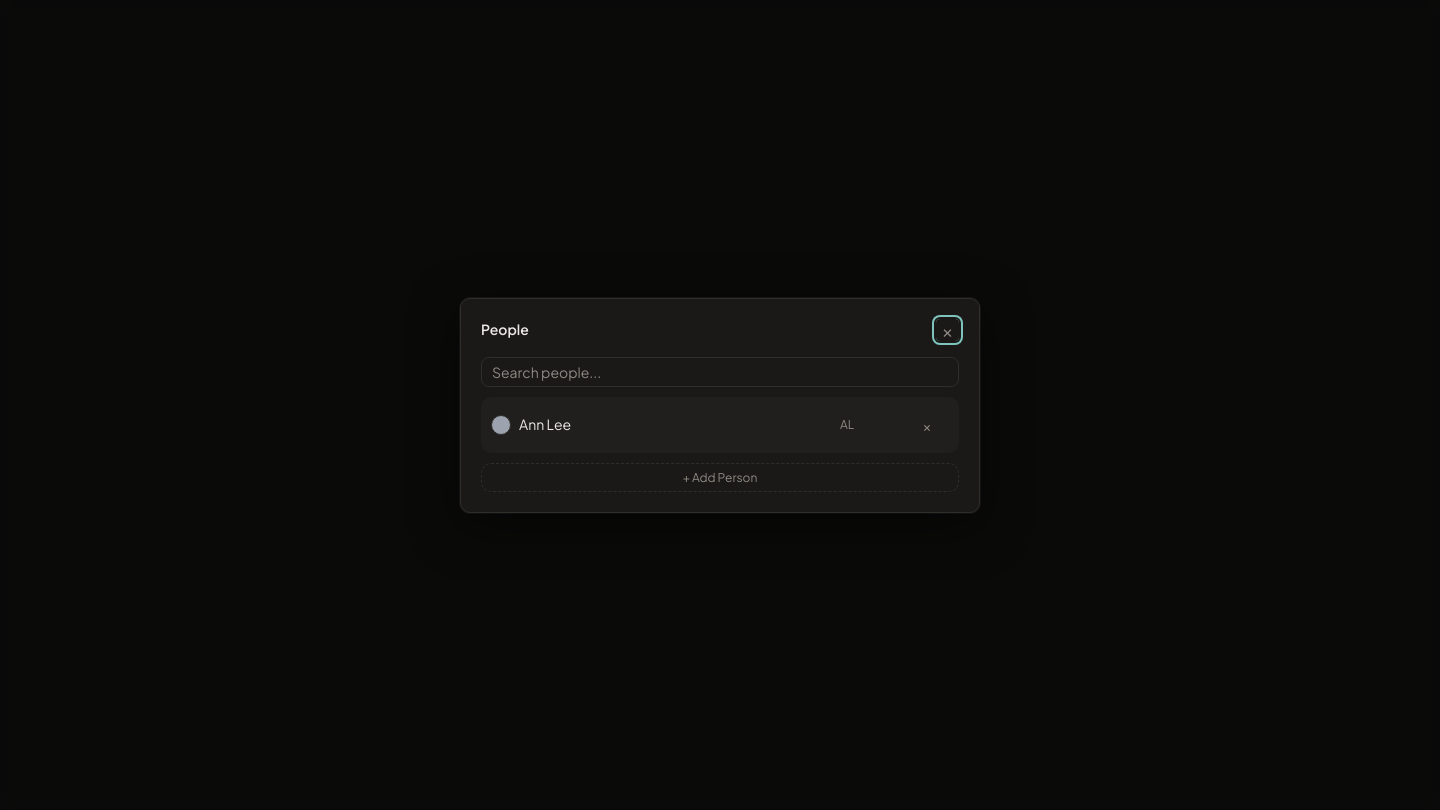
Test: PeopleEditor › Enter with a bad email shows the error instead of saving
Click the text "Ann Lee" at (545, 424), box [519,415,571,433]
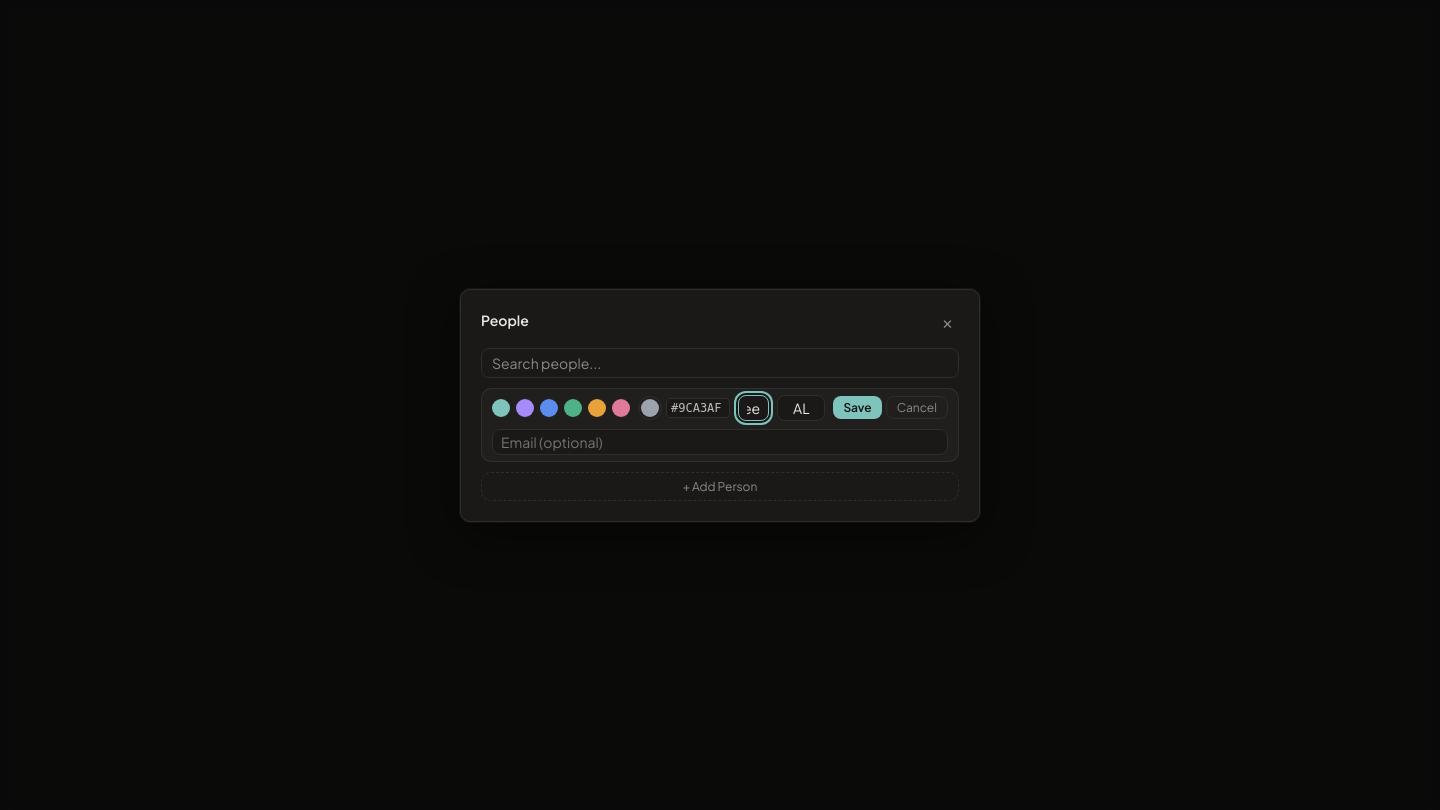
Type "ann at example" into the field labelled "Email" at (720, 442), box [492,428,948,454]
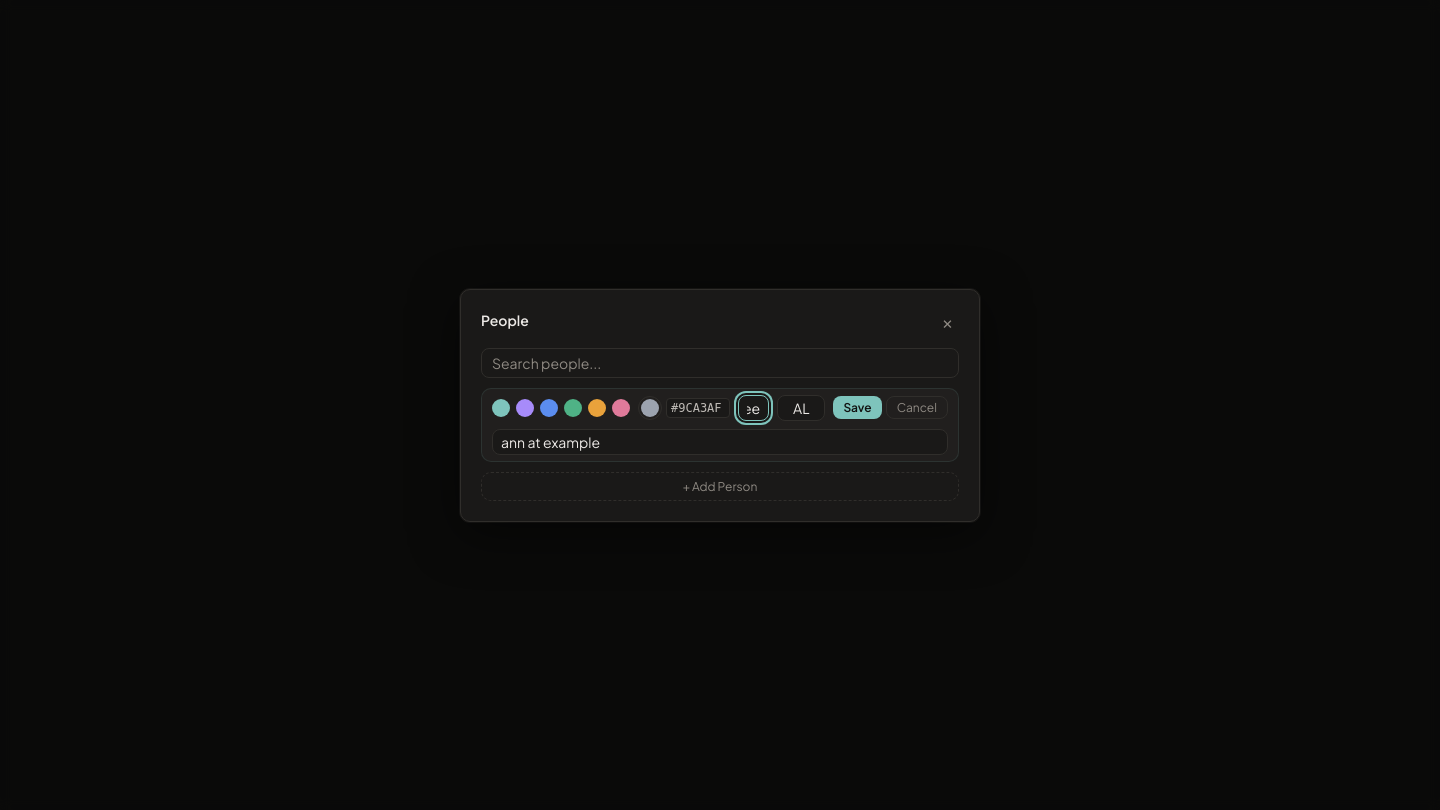
Press Enter in the field named "Email", box [492,428,948,454]
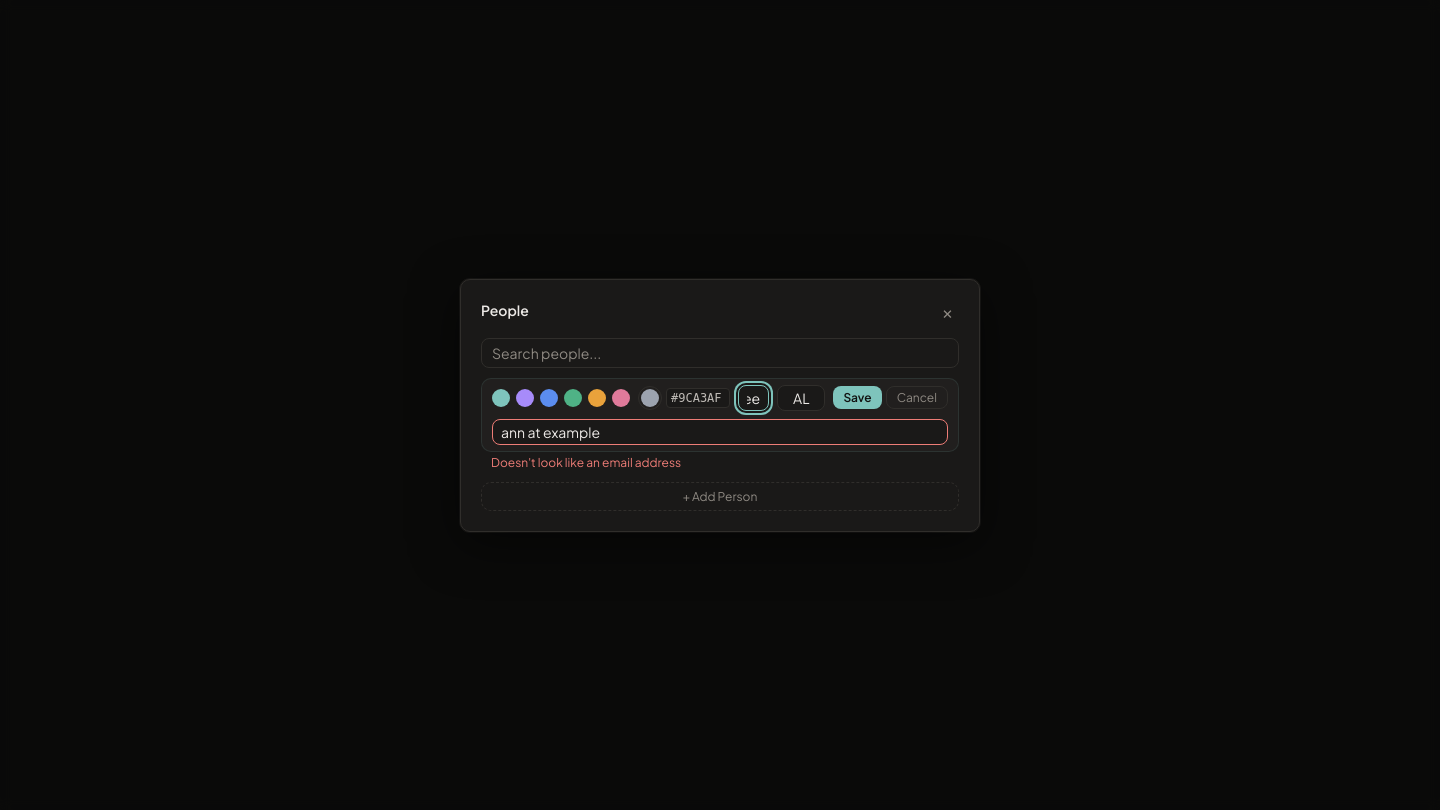
Result: the text "Doesn't look like an email address" is shown at [491,454,681,470]
